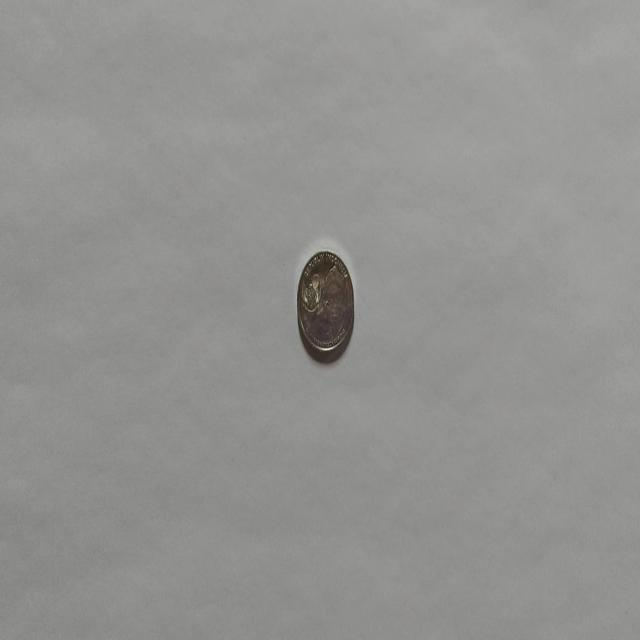dua ratus rupiah: (296, 248, 354, 361)
